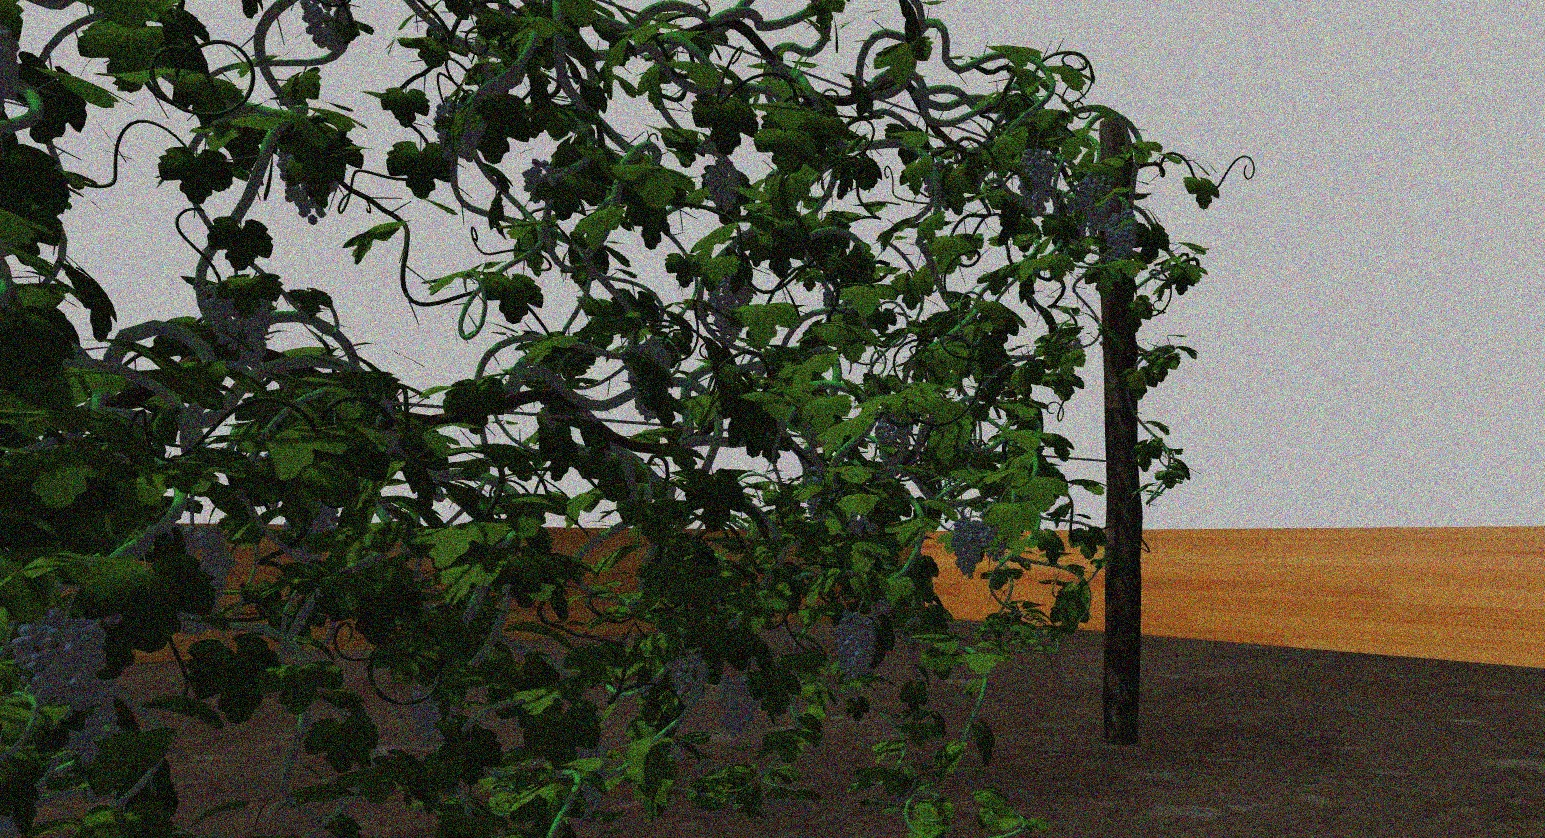grape: (11, 612, 106, 702), (169, 525, 237, 639), (203, 283, 273, 368), (706, 269, 754, 345), (63, 706, 122, 766), (433, 98, 487, 160), (833, 611, 877, 683), (409, 684, 461, 740), (1016, 147, 1057, 217), (717, 673, 761, 739), (1077, 168, 1118, 238), (300, 3, 356, 50), (874, 413, 912, 469), (702, 158, 742, 211), (949, 515, 981, 580), (668, 653, 709, 703), (1104, 213, 1137, 265), (522, 159, 564, 197), (981, 525, 1008, 561)
